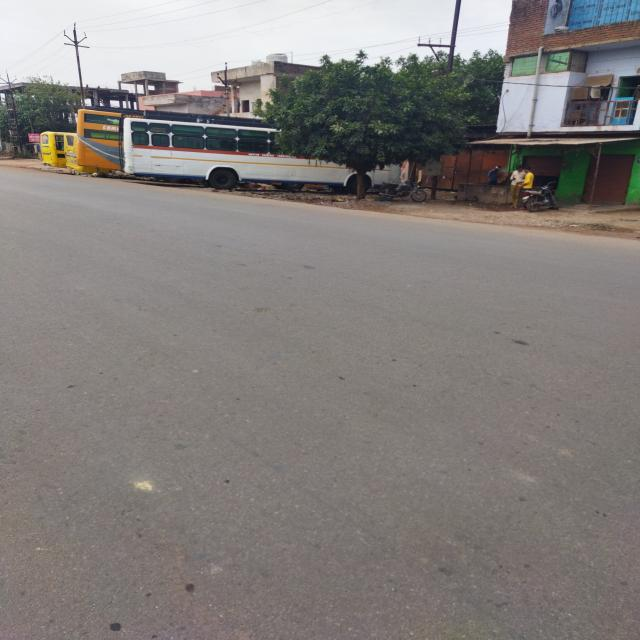Bus: (114, 112, 344, 190)
